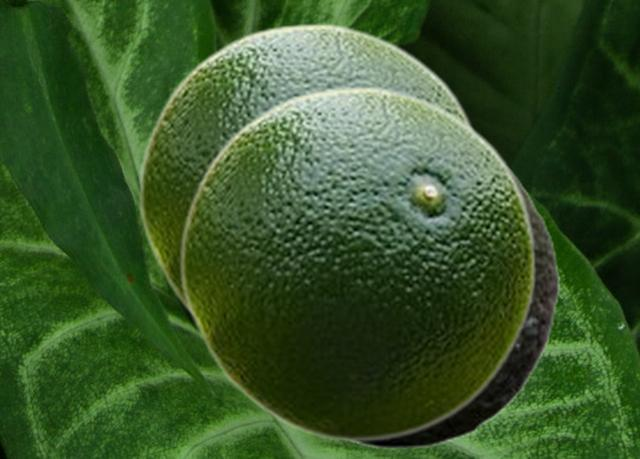calamansi: (178, 85, 537, 441), (137, 22, 480, 317), (341, 162, 560, 448)
